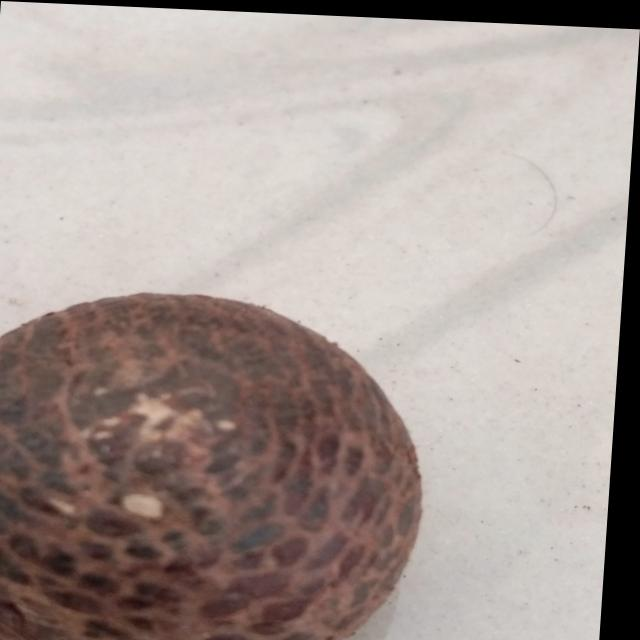karigot: (0, 268, 472, 640)
